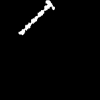half_double_crochet: (19, 0, 54, 34)
